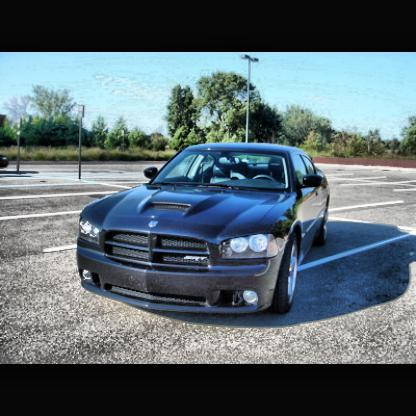Dodge Charger SRT-8 2009: (78, 143, 332, 327)
